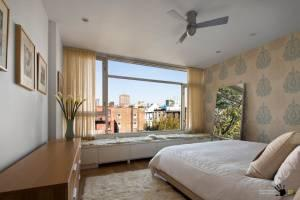window: (94, 53, 189, 135)
